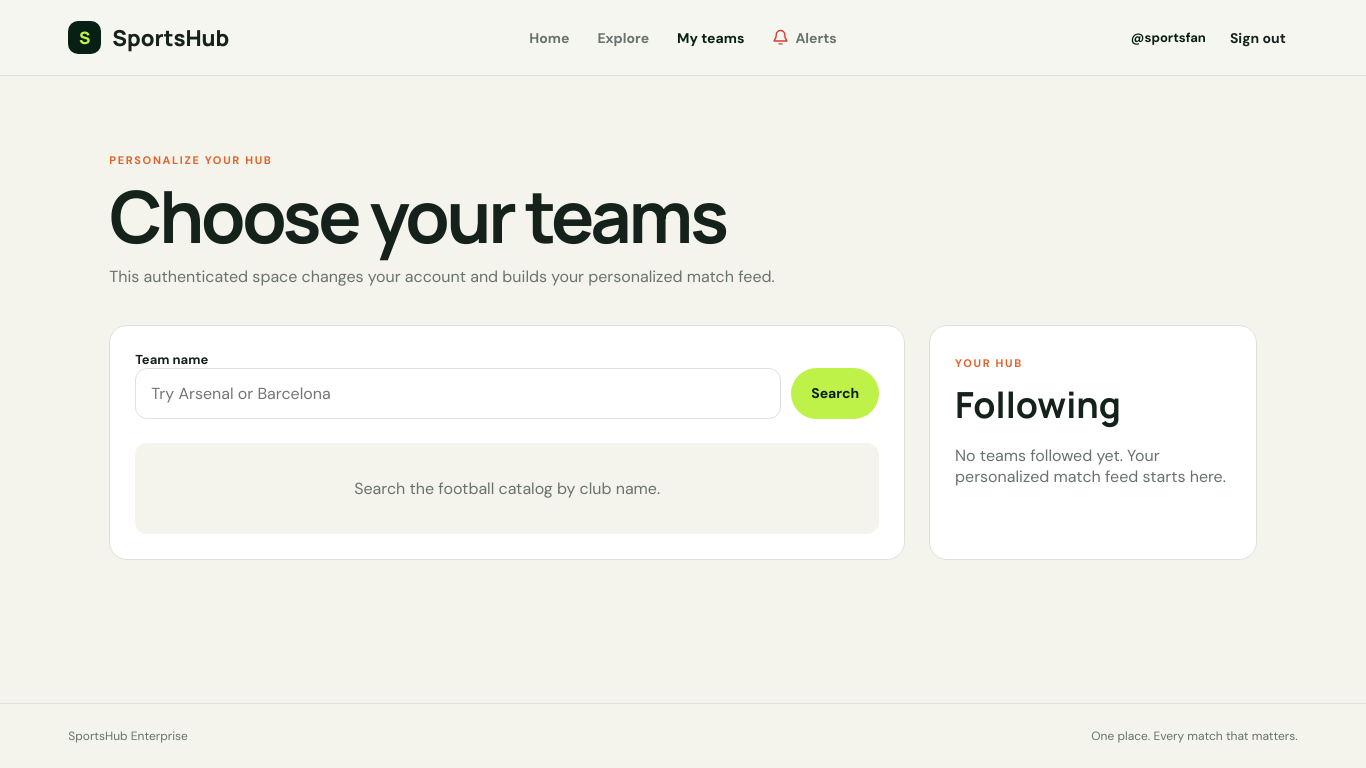
SportsHub web foundation › searches for and follows a team with the authenticated token
Type "Arsenal" into the field labelled "Team name" at {"x": 458, "y": 394}, box [135,368,781,419]
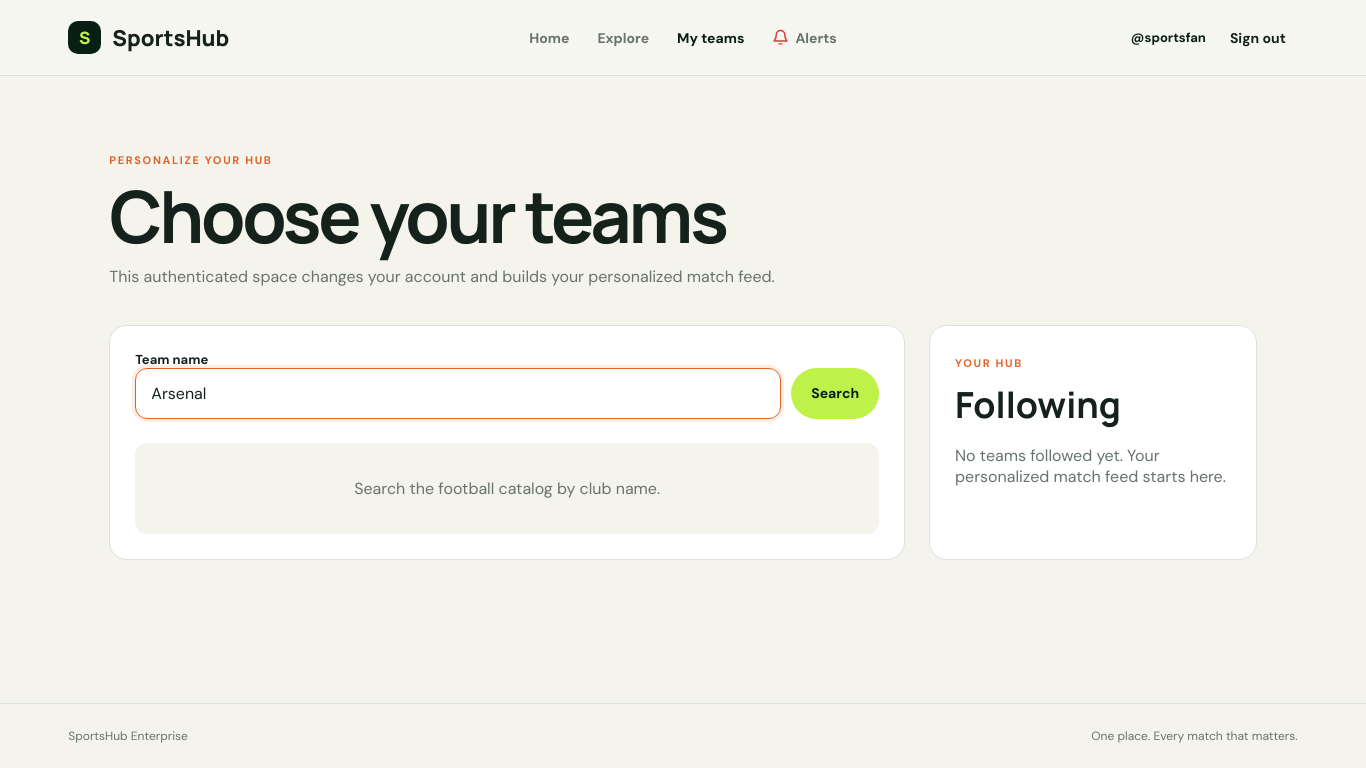
Click the button "Search" at {"x": 835, "y": 394}, box [791,368,879,419]
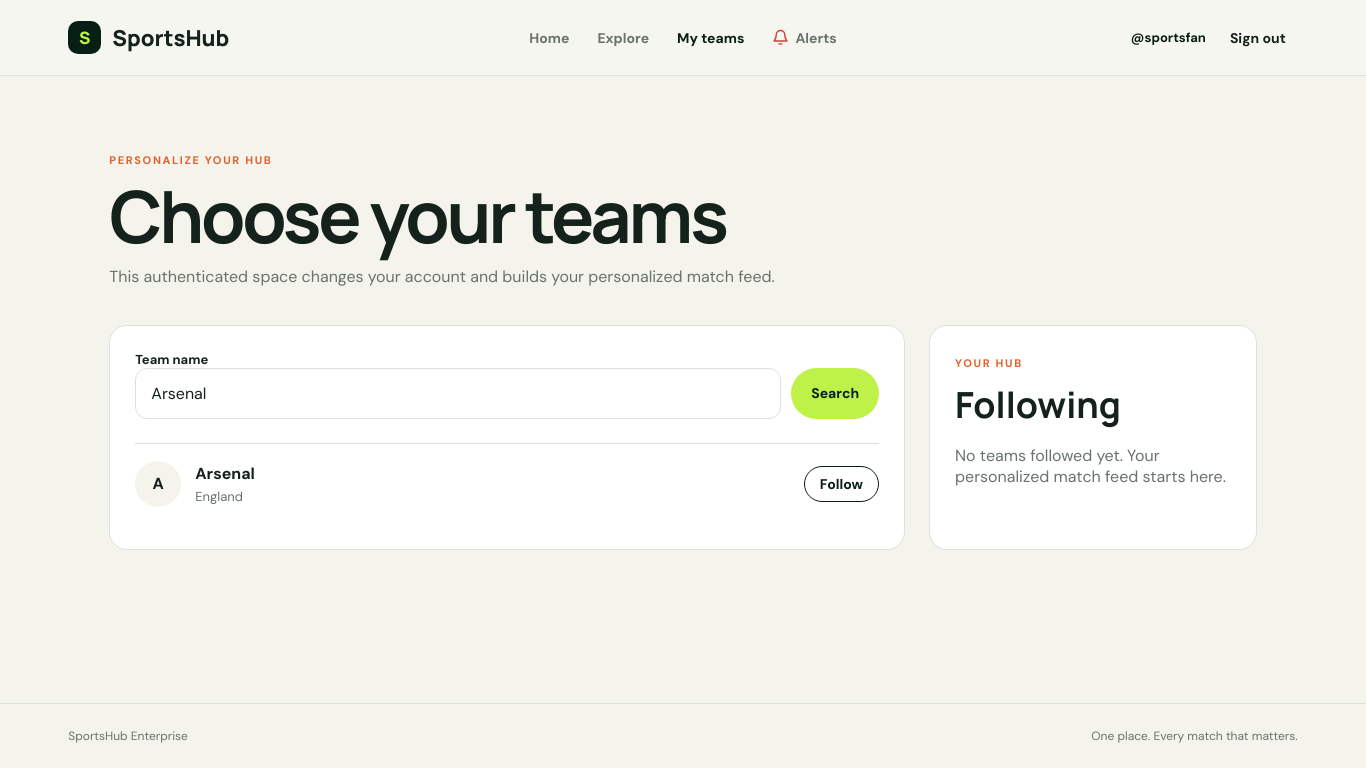
Click the button "Follow" at {"x": 841, "y": 484}, box [804,466,879,502]
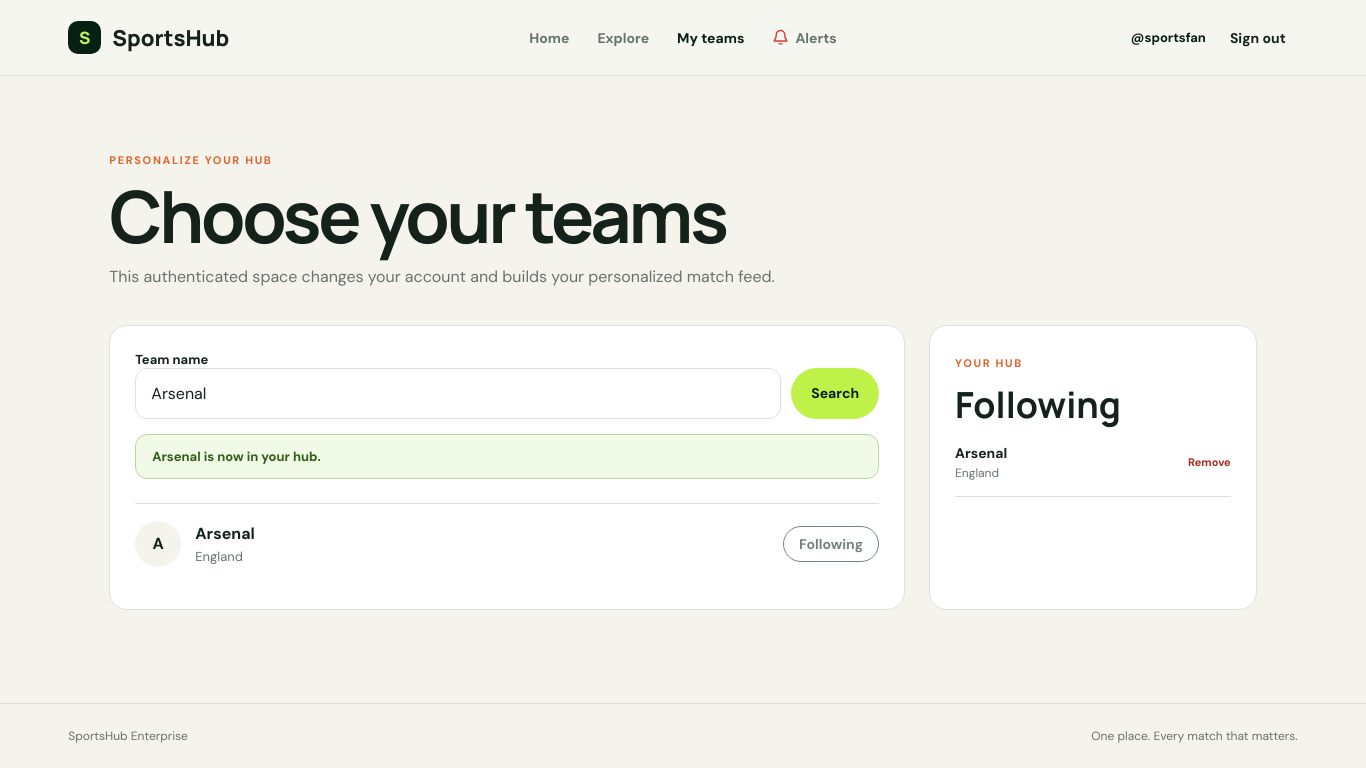
Expected: the text "Arsenal is now in your hub." is shown, [135,434,879,479]
